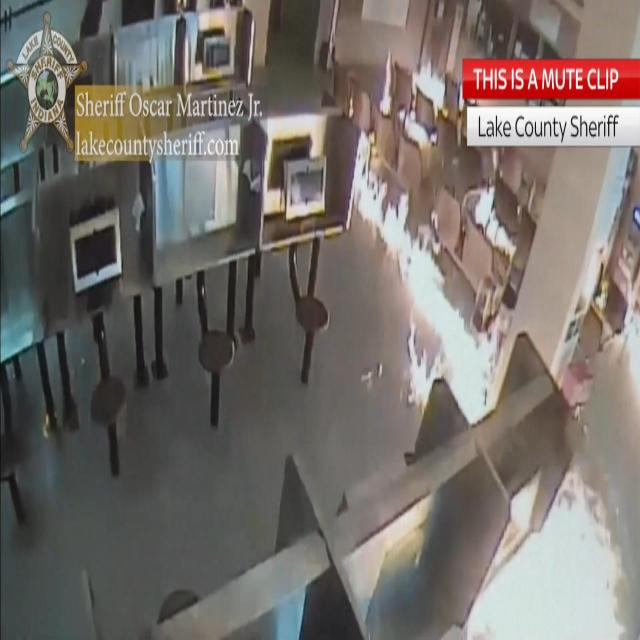fire: (350, 150, 490, 423), (467, 468, 624, 640)
